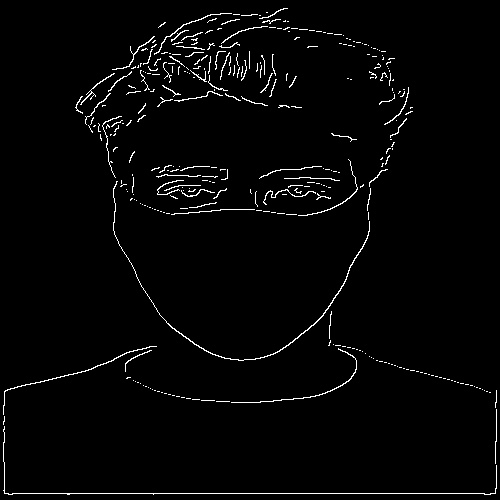mask: (114, 203, 374, 363)
